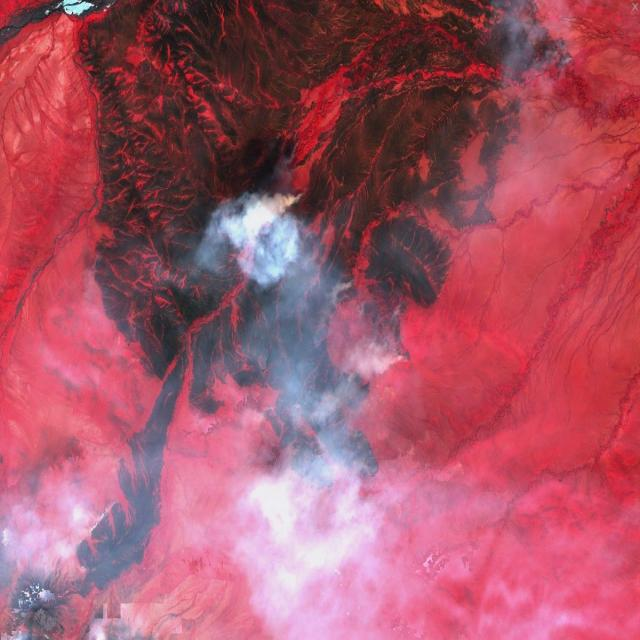fire: (252, 180, 423, 492), (68, 443, 141, 575), (491, 0, 593, 86)
